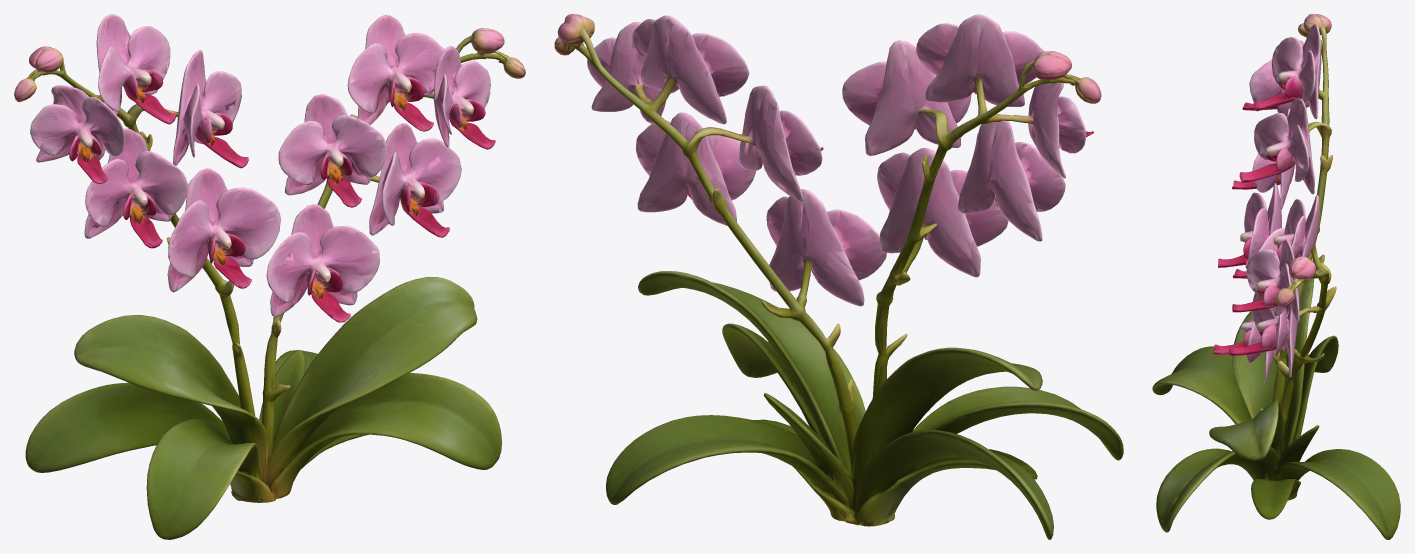
The model's file is phalaenopsis-new.glb.
The picture shows the model from 3 angles, left to right: view 1: azimuth 30°, elevation 25°; view 2: azimuth 150°, elevation 25°; view 3: azimuth 270°, elevation 25°; orthographic projection. The views are drawn at different scales.
Parts seen in each view (by area): view 1: tripo_node_9be1a2f1; view 2: tripo_node_9be1a2f1; view 3: tripo_node_9be1a2f1.
Boxes of the visible parts, x1,y1,x2,y2 form: tripo_node_9be1a2f1: (14,14,525,539); tripo_node_9be1a2f1: (554,14,1123,539); tripo_node_9be1a2f1: (1152,14,1400,539).
Size of the model in its own units: 1.37 by 1.3 by 0.7038.
Materials: 1 (1 with a texture image).
